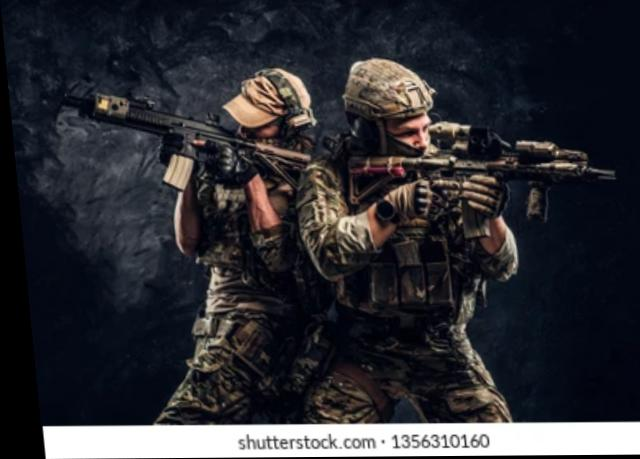other: (277, 56, 529, 418), (150, 73, 332, 421)
